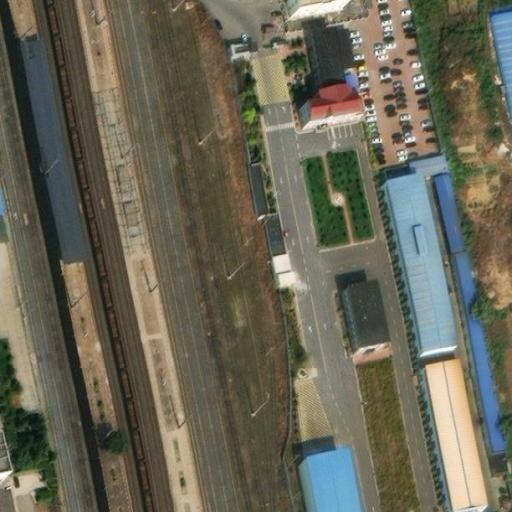building: (5, 3, 91, 286), (387, 168, 460, 347), (455, 242, 510, 445), (426, 352, 487, 502), (296, 443, 352, 512), (346, 269, 392, 341), (301, 21, 347, 85), (436, 164, 468, 246), (264, 206, 295, 277), (297, 78, 352, 118), (493, 5, 512, 101), (247, 159, 271, 211), (408, 150, 447, 170), (0, 424, 13, 478), (490, 442, 512, 465), (287, 0, 341, 9)
